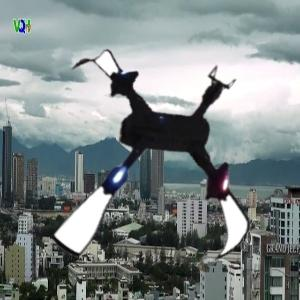drone: (23, 40, 276, 293)
